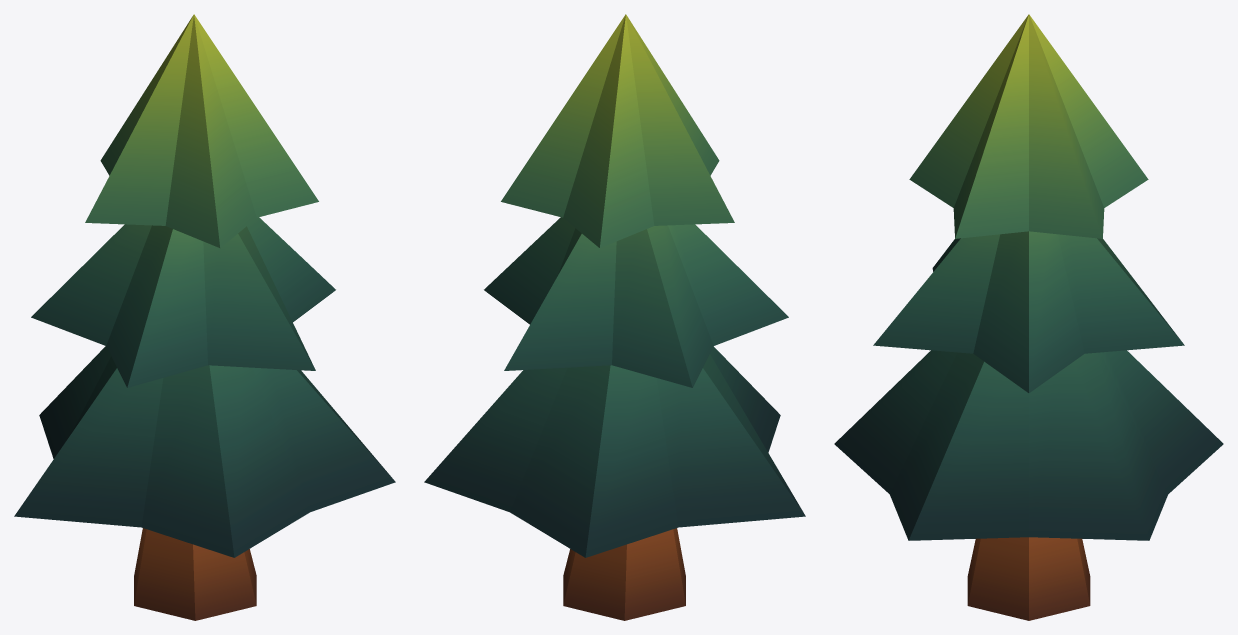
Rendered from pinetree_green.fbx.
The picture shows the model from 3 angles, left to right: view 1: azimuth 30°, elevation 25°; view 2: azimuth 150°, elevation 25°; view 3: azimuth 270°, elevation 25°; orthographic projection.
Parts seen in each view (by area): view 1: PineTree.001; view 2: PineTree.001; view 3: PineTree.001.
Boxes of the visible parts, x1,y1,x2,y2 form: PineTree.001: (14, 14, 395, 620); PineTree.001: (424, 14, 805, 620); PineTree.001: (834, 14, 1223, 620).
Size of the model in its own units: 16.3 by 27.91 by 17.11.
